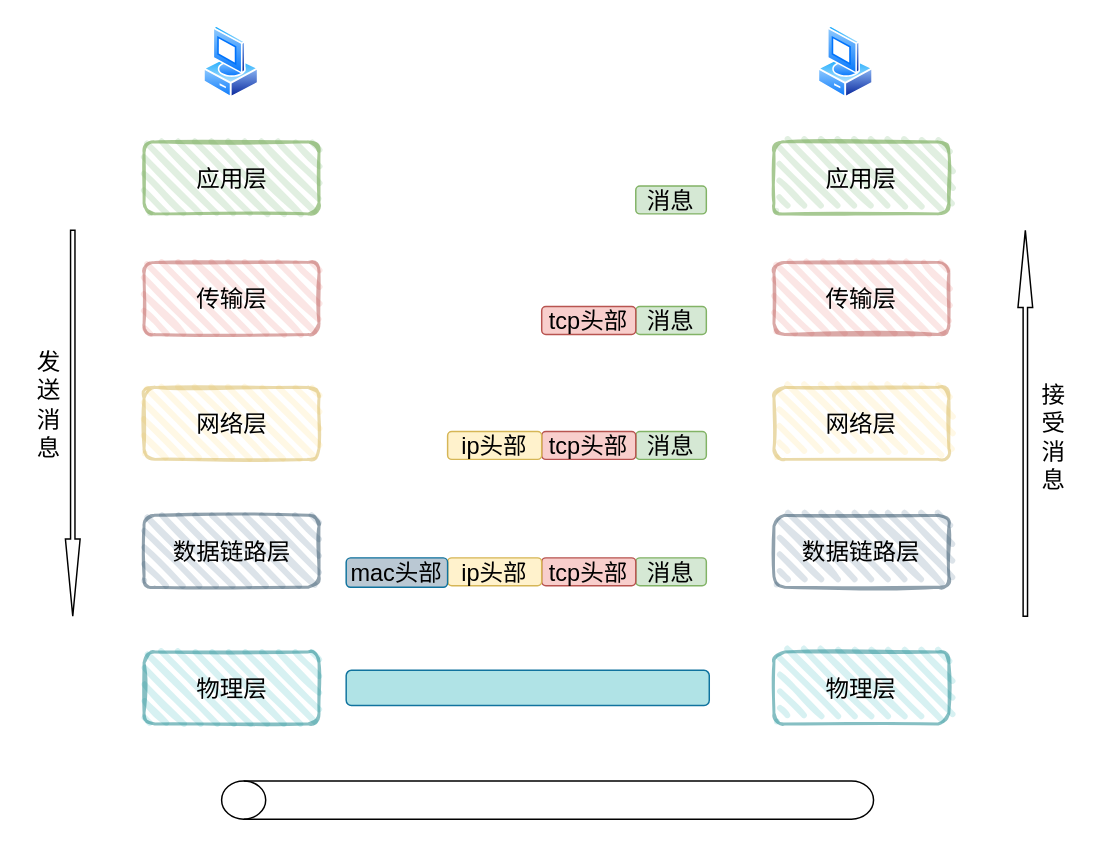
This 1097x847 diagram has some shape labels left out. Here are the shapes that lost their labels. From the top down, the box of each, then its label:
(345, 669, 709, 706): 0101 ...比特流... 1010
(220, 780, 874, 819): 光信号
